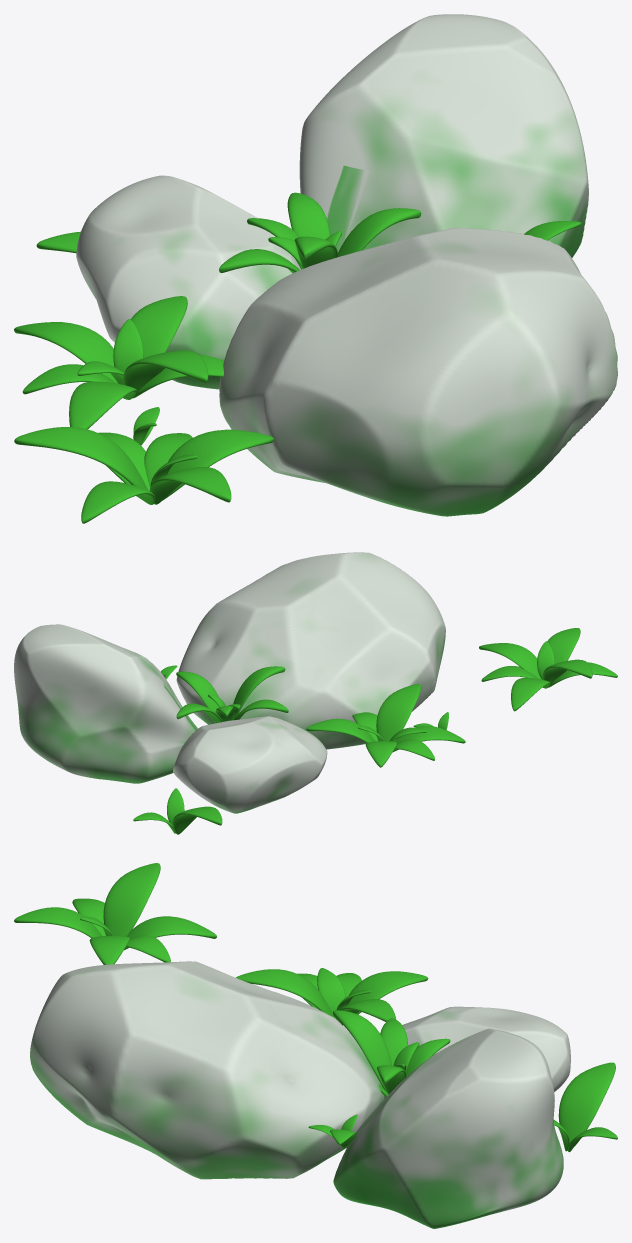
Rendered from rock_and_plants.glb.
3 renders of one model, top to bottom at view 1: azimuth 30°, elevation 25°; view 2: azimuth 150°, elevation 25°; view 3: azimuth 270°, elevation 25°, orthographic. The views are drawn at different scales.
Visible parts, largest first — view 1: Cube; view 2: Cube; view 3: Cube.
Part boxes in pixels (left/top/right/bottom): Cube: left=14, top=14, right=617, bottom=523; Cube: left=14, top=552, right=617, bottom=834; Cube: left=14, top=863, right=617, bottom=1228.
Bounding box in the file's own units: 10.85 × 3.45 × 10.05.
1 material, 1 textured.
